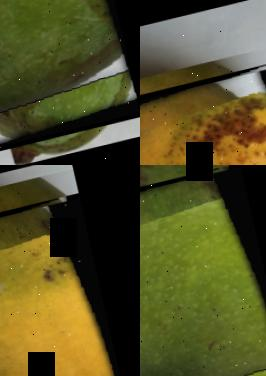PartiallyRipe: (0, 195, 140, 376), (140, 61, 266, 165)
Unripe: (140, 165, 266, 376), (0, 0, 140, 157)
